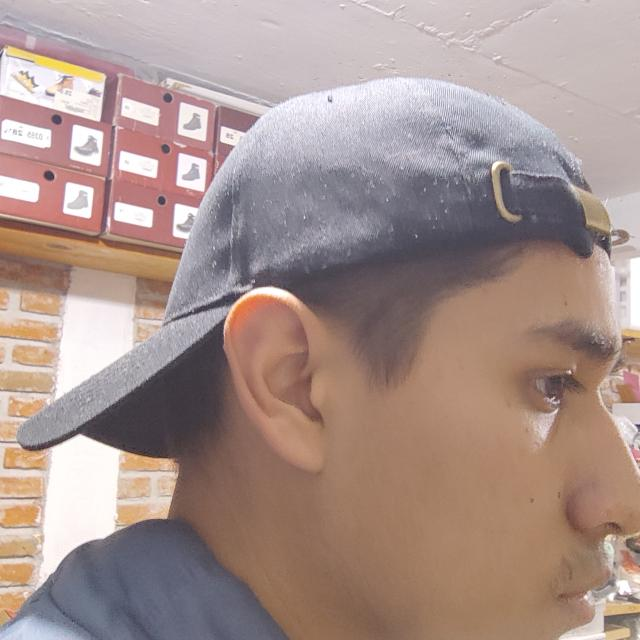ear: (224, 288, 359, 472)
